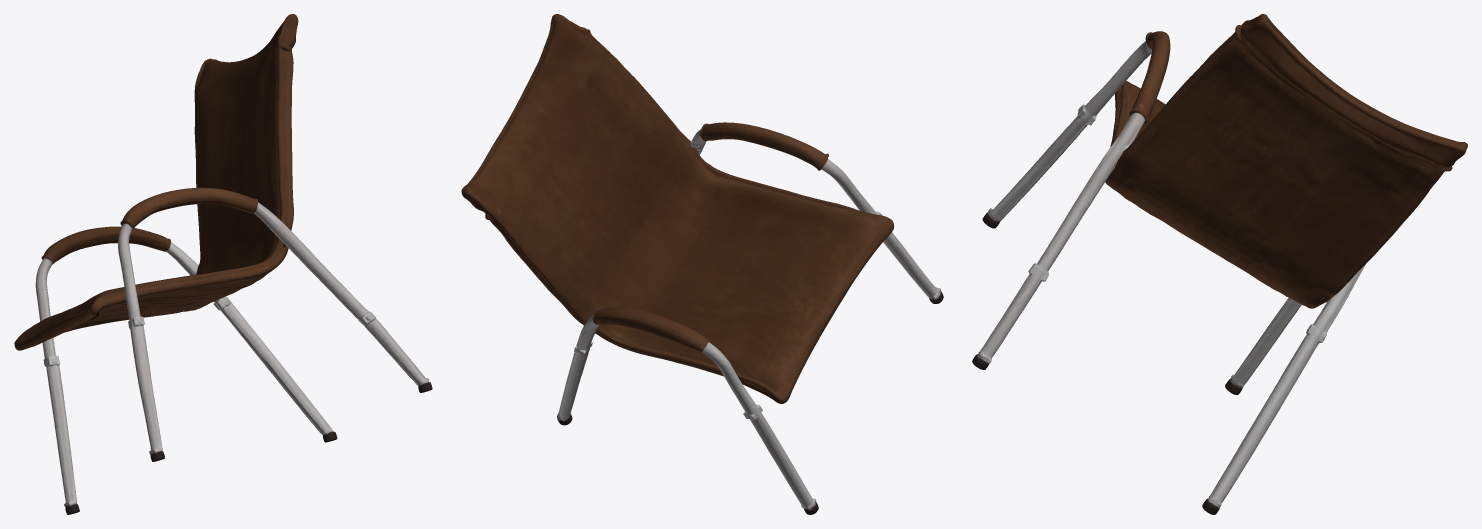
File: pixal3d.glb
The picture shows the model from 3 angles, left to right: view 1: azimuth 30°, elevation 25°; view 2: azimuth 150°, elevation 25°; view 3: azimuth 270°, elevation 25°; orthographic projection. The views are drawn at different scales.
Visible parts, largest first — view 1: world; view 2: world; view 3: world.
Part boxes in pixels (bbox=[...]): world: bbox=[14, 14, 432, 514]; world: bbox=[461, 14, 943, 514]; world: bbox=[972, 14, 1467, 514].
Size of the model in its own units: 0.6248 by 0.9134 by 0.8013.
1 material, 1 textured.
